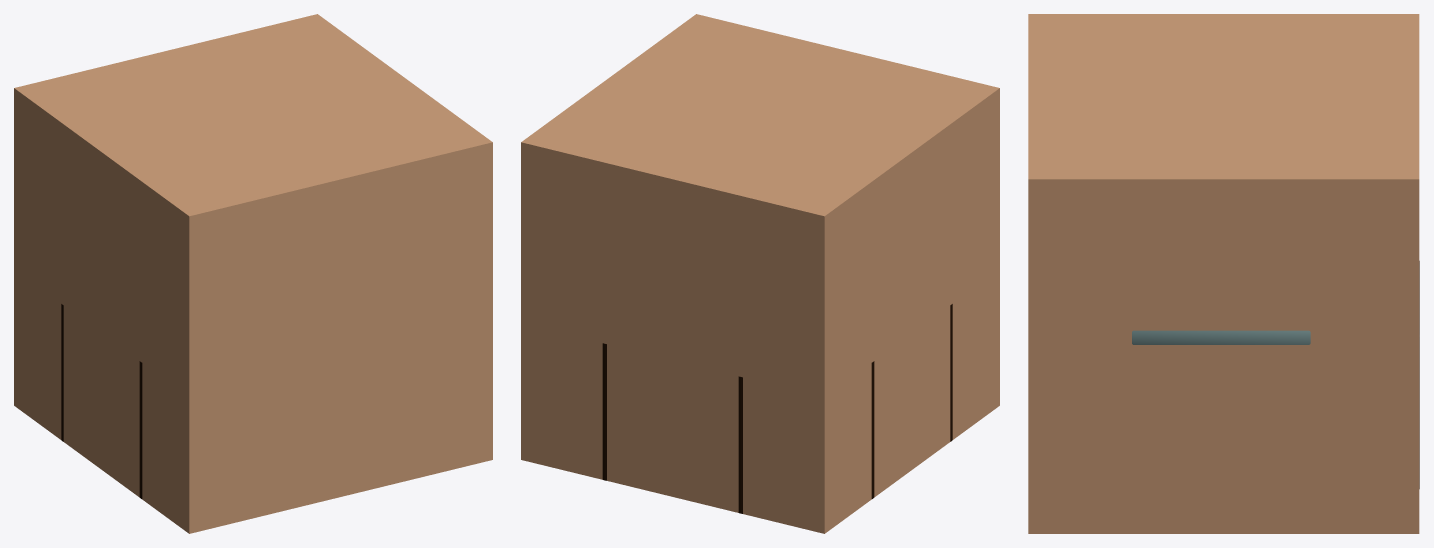
The model's file is ground.glb.
3 renders of one model, left to right at view 1: azimuth 30°, elevation 25°; view 2: azimuth 150°, elevation 25°; view 3: azimuth 270°, elevation 25°, orthographic. The views are drawn at different scales.
Parts seen in each view (by area): view 1: grass_light, Fence_straight_voltage; view 2: grass_light, Fence_straight_voltage_2, Fence_straight_voltage; view 3: grass_light, Table.
Part boxes in pixels (left/top/right/bottom): grass_light: left=14, top=14, right=492, bottom=533; Fence_straight_voltage: left=61, top=304, right=142, bottom=498; grass_light: left=521, top=14, right=999, bottom=533; Fence_straight_voltage_2: left=602, top=343, right=742, bottom=513; Fence_straight_voltage: left=871, top=304, right=952, bottom=498; grass_light: left=1028, top=14, right=1419, bottom=533; Table: left=1132, top=330, right=1310, bottom=344.
Bounding box in the file's own units: 2 × 2 × 2.
